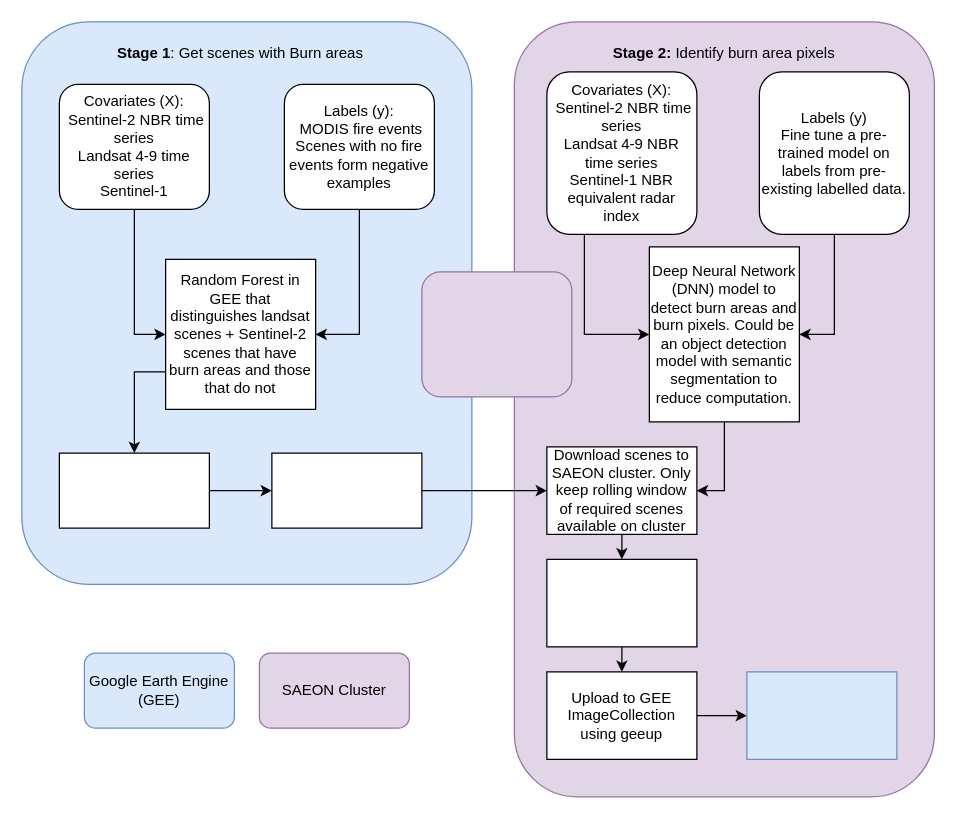
This 956x819 diagram has some shape labels left out. Each missing label, with the box of its shape:
All scenes that have a set that includes burn areas with a 95/99% probability: (271, 452, 422, 528)
Burn Area maps Burn Area Uncertainty maps Fire Event maps: (546, 558, 697, 647)
Conformal Prediction: (58, 452, 209, 528)
GEE app to explore (maybe download) data: (746, 671, 897, 759)
NannyML to monitor model performance. DVC for version control: (421, 271, 572, 397)
